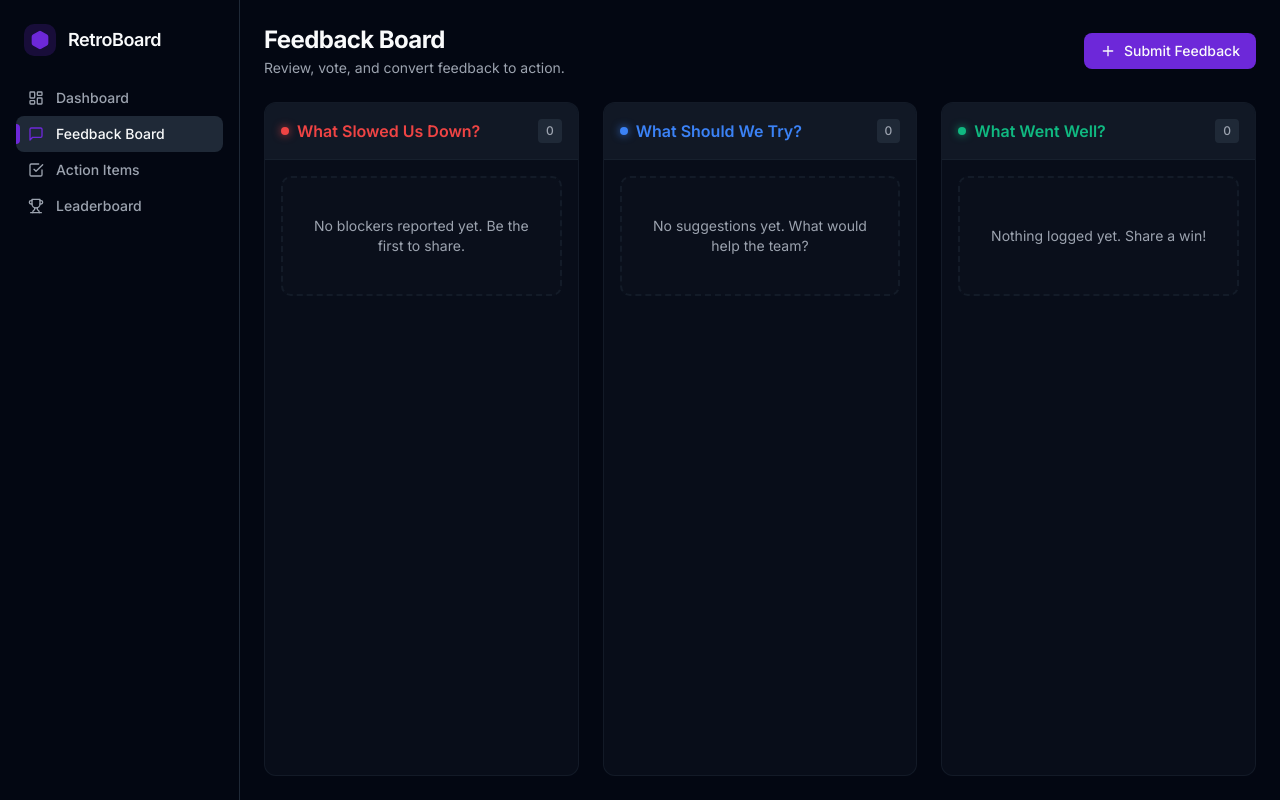
Test: FB-7: selecting slowed-us-down shows suggestion textarea and Reframe Rule badge
Click the button with test id "open-modal-btn" at (1170, 51), box [1084,33,1256,69]
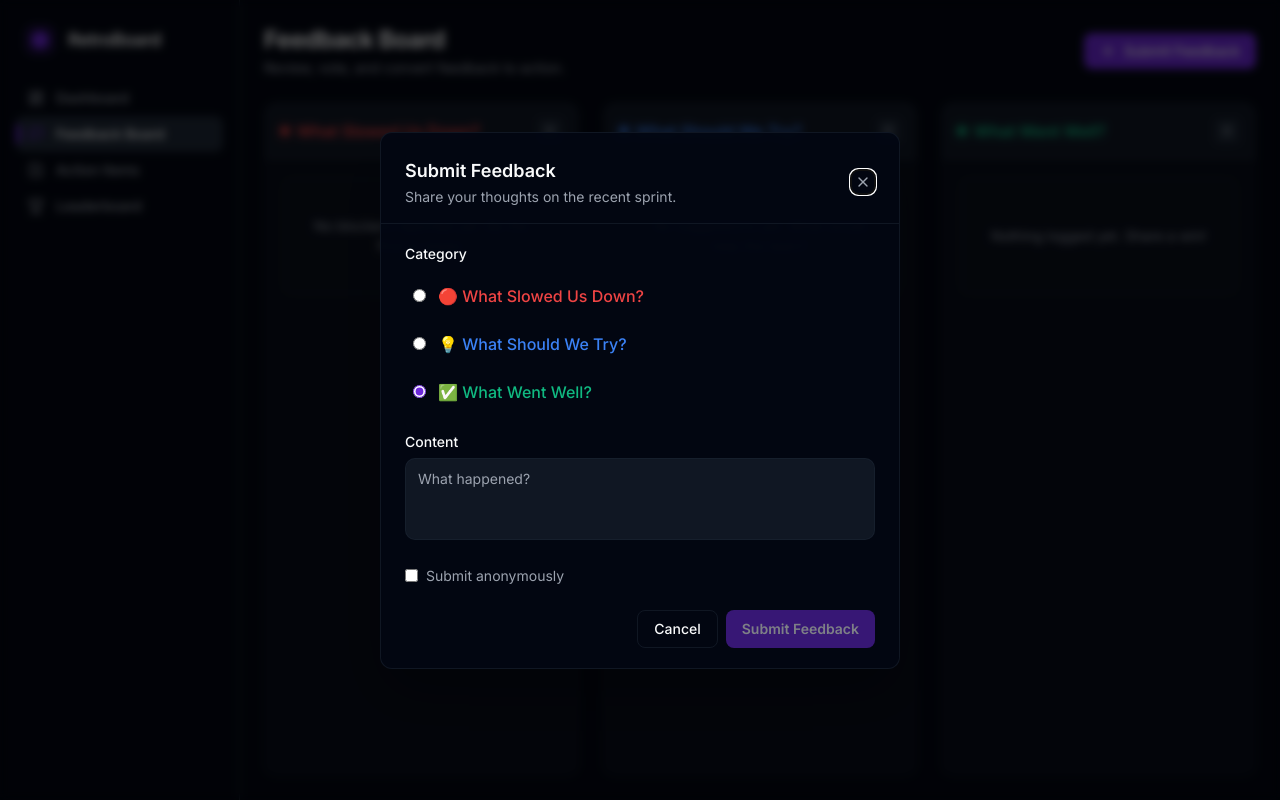
Expected: the dialog with test id "submit-feedback-modal" is shown, [380,132,900,668]
Click the radio button showing "slowed-us-down" at (420, 296), box [413,289,426,302]
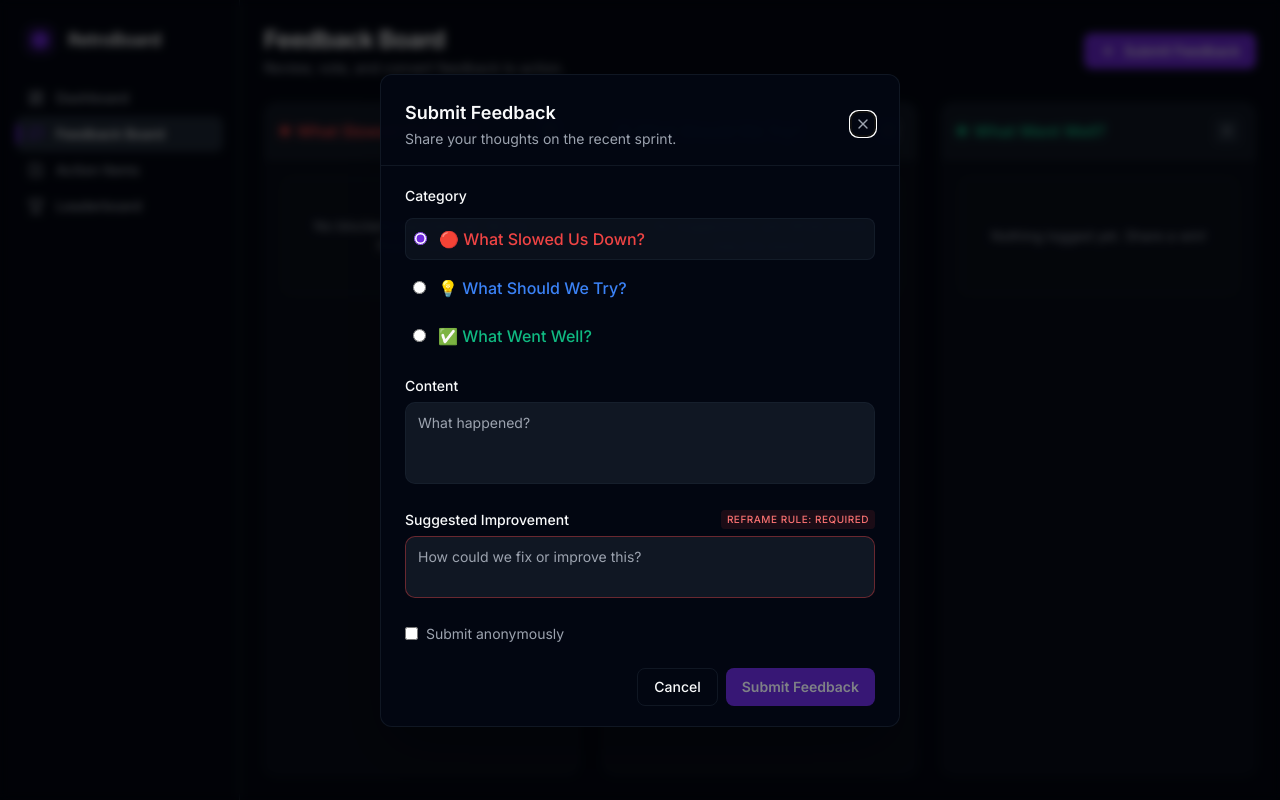
Expected: the text box with placeholder "How could we fix or improve this?" is shown, [405,536,875,598]
Expected: the text "REFRAME RULE: REQUIRED" is shown, [721,510,875,529]
